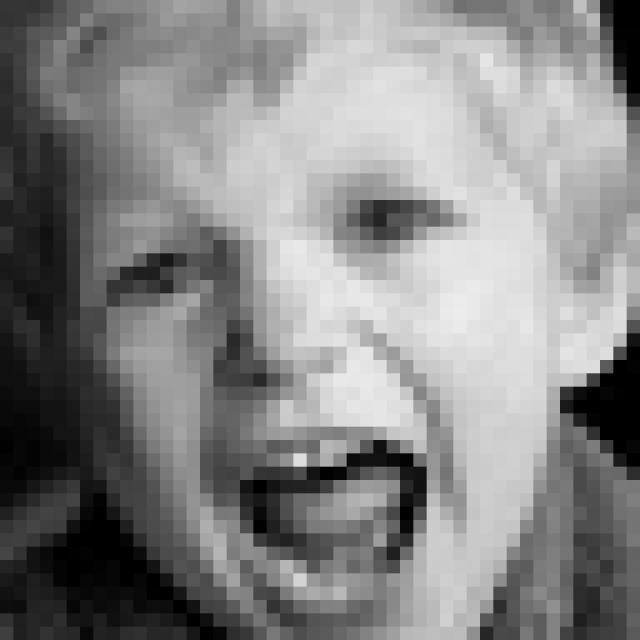angry: (95, 152, 470, 613)
